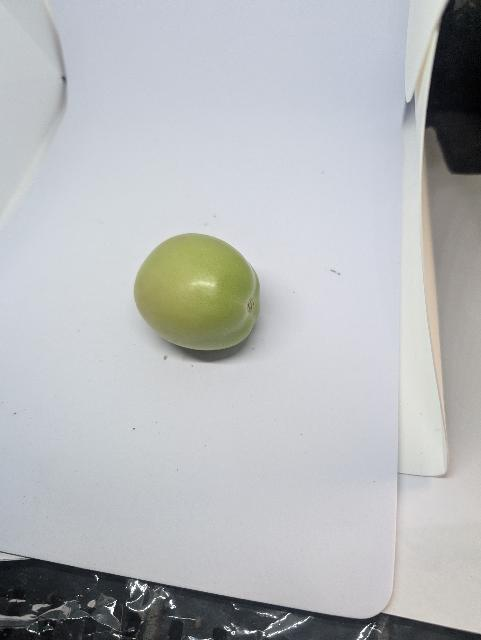green: (131, 230, 265, 353)
